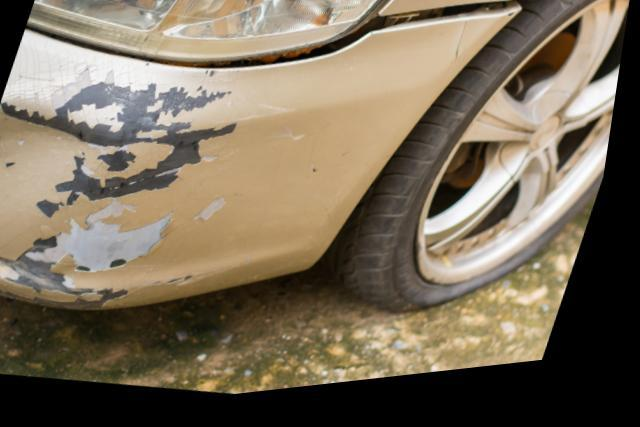scratch: (0, 70, 301, 311)
tire flat: (335, 0, 633, 322)
